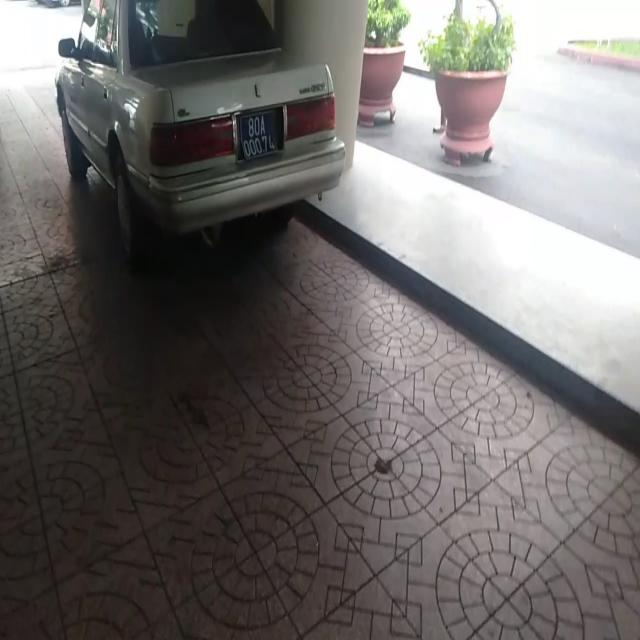bien_xanh: (239, 107, 282, 161)
